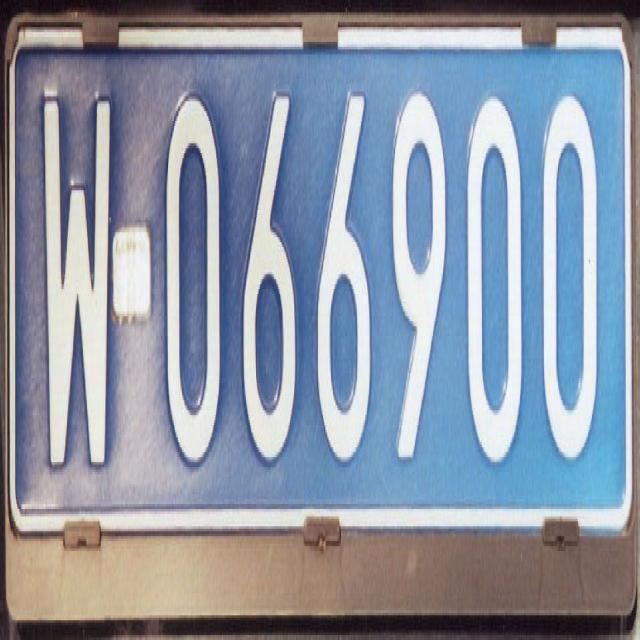pl_license_plate: (15, 44, 626, 507)
